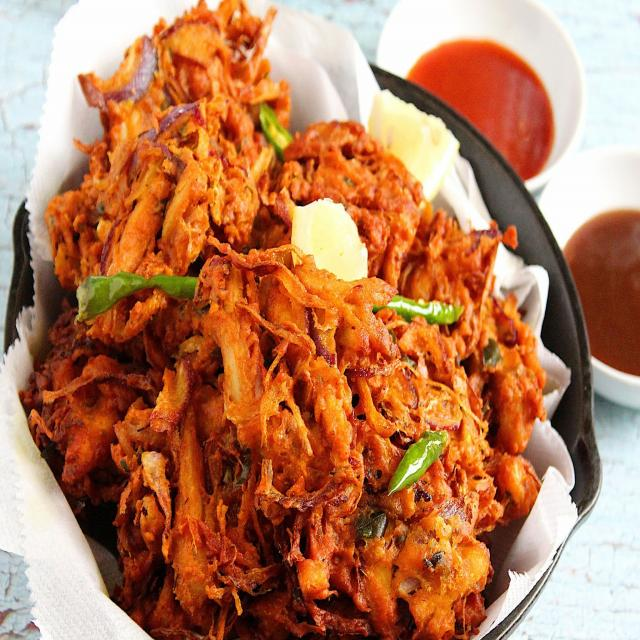Onion Pakora: (29, 8, 532, 640)
